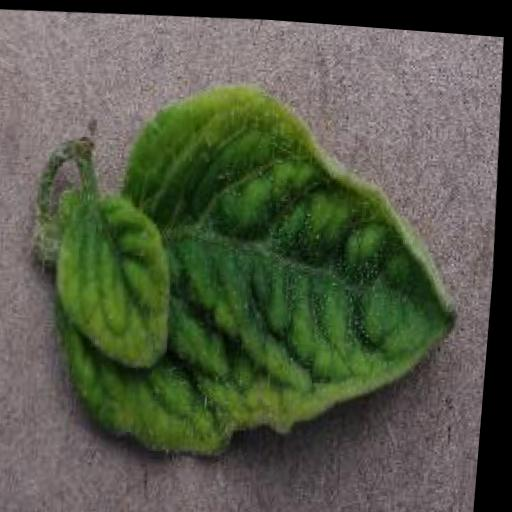Yellow Leaf Curl Virus: (51, 62, 484, 472), (47, 192, 178, 370)
